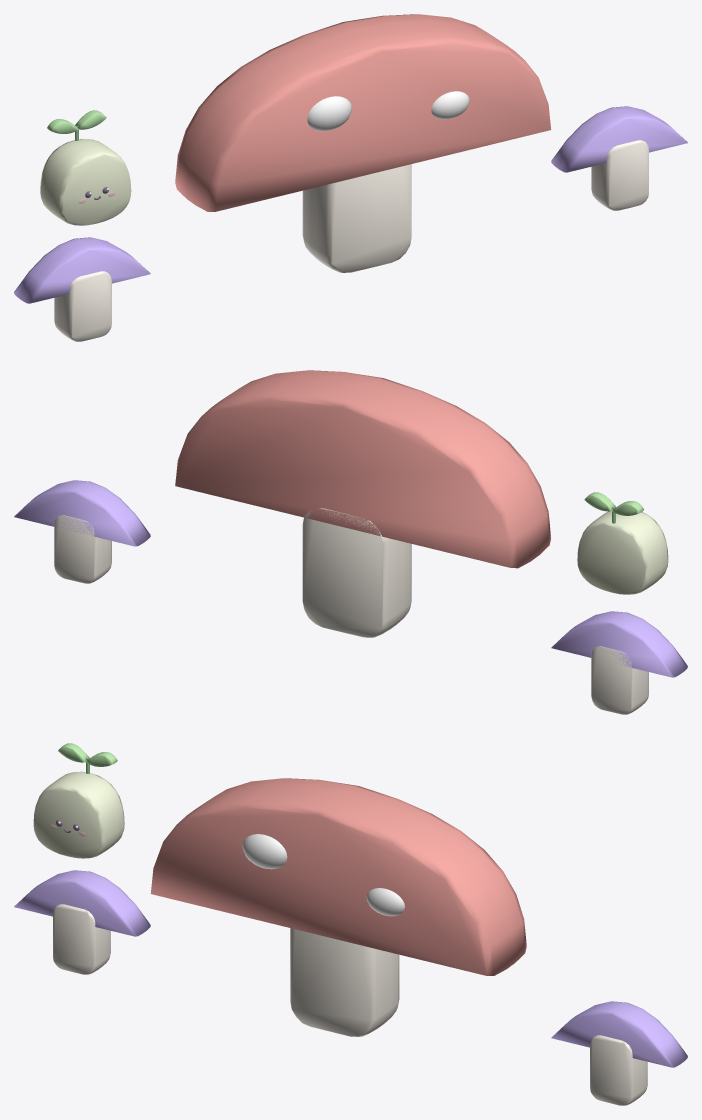
The model's file is decor_2_classic.glb.
3 renders of one model, top to bottom at view 1: azimuth 30°, elevation 25°; view 2: azimuth 150°, elevation 25°; view 3: azimuth 330°, elevation 25°, orthographic.
Parts seen in each view (by area): view 1: decor_2_classic; view 2: decor_2_classic; view 3: decor_2_classic.
Part boxes in pixels (bbox=[...]): decor_2_classic: bbox=[14, 14, 687, 341]; decor_2_classic: bbox=[14, 370, 687, 714]; decor_2_classic: bbox=[14, 743, 687, 1105].
Bounding box in the file's own units: 19.71 × 6.97 × 2.38.
